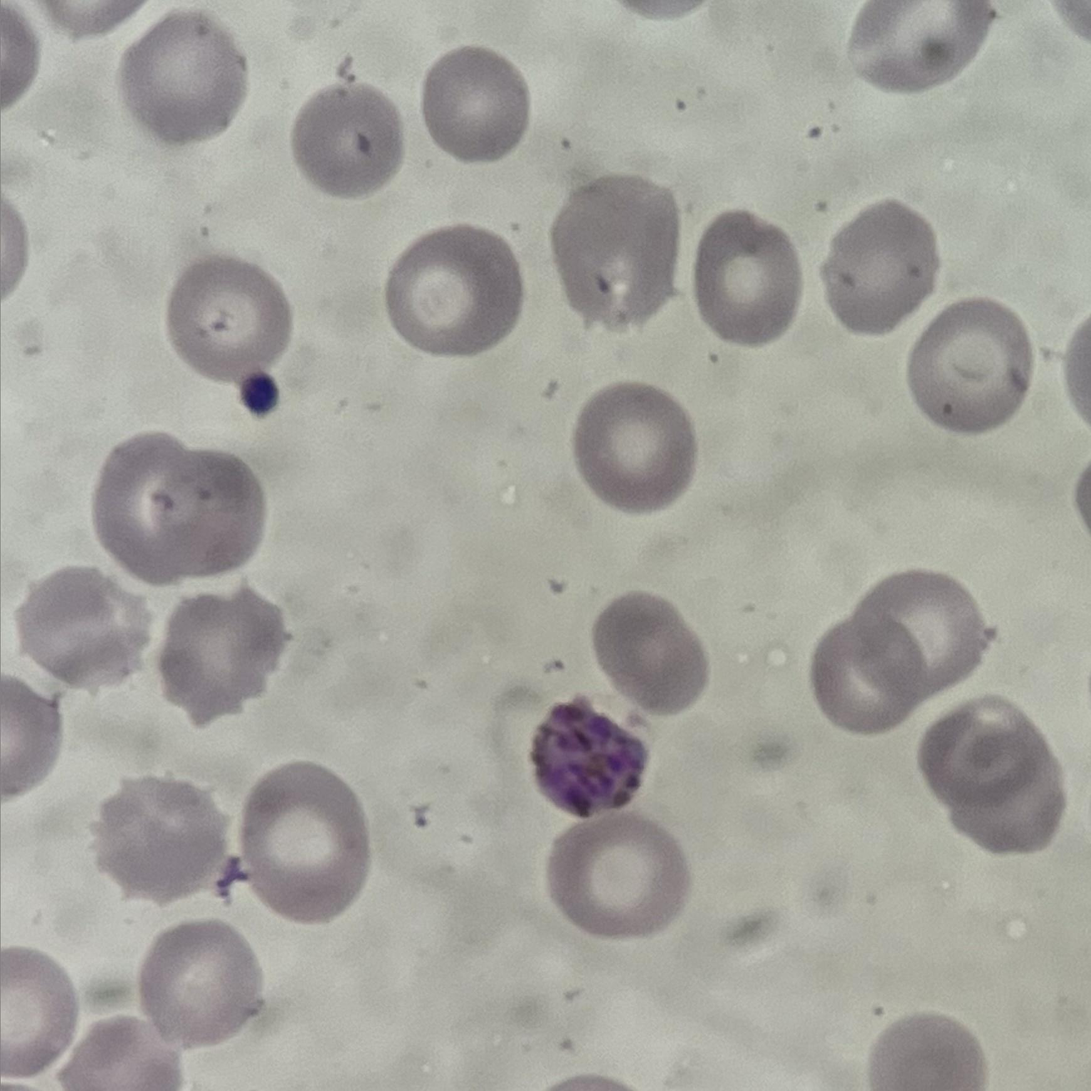Infected: (529, 692, 647, 815)
Uninfected: (242, 765, 373, 924), (552, 168, 673, 328), (387, 222, 525, 355), (543, 816, 685, 942), (17, 563, 152, 695), (94, 772, 225, 905), (857, 569, 991, 698), (907, 295, 1033, 430), (92, 433, 205, 583), (123, 19, 252, 148), (821, 201, 941, 338), (161, 594, 287, 723), (167, 257, 292, 387), (138, 918, 262, 1047), (573, 379, 693, 512), (694, 209, 804, 342), (594, 592, 712, 715), (924, 692, 1049, 807), (150, 450, 262, 576), (809, 611, 921, 736), (849, 2, 994, 94), (422, 44, 531, 164), (293, 82, 406, 194), (955, 761, 1068, 858), (0, 945, 77, 1079), (865, 1012, 984, 1091)
